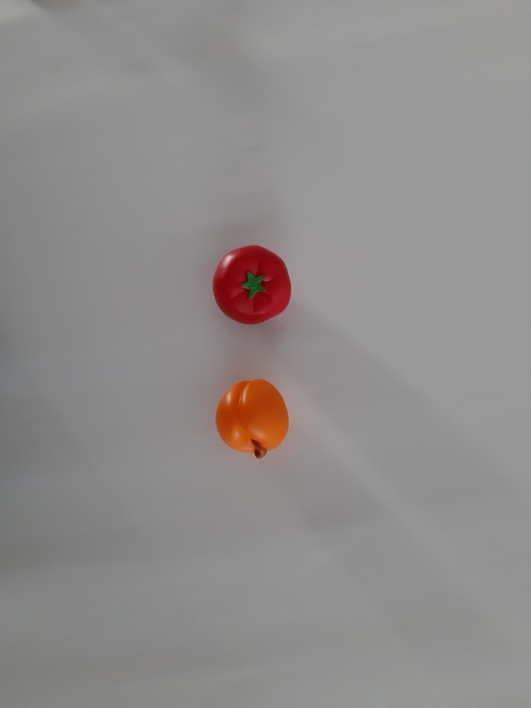apricot: (195, 366, 311, 473)
tomato: (200, 230, 307, 339)
